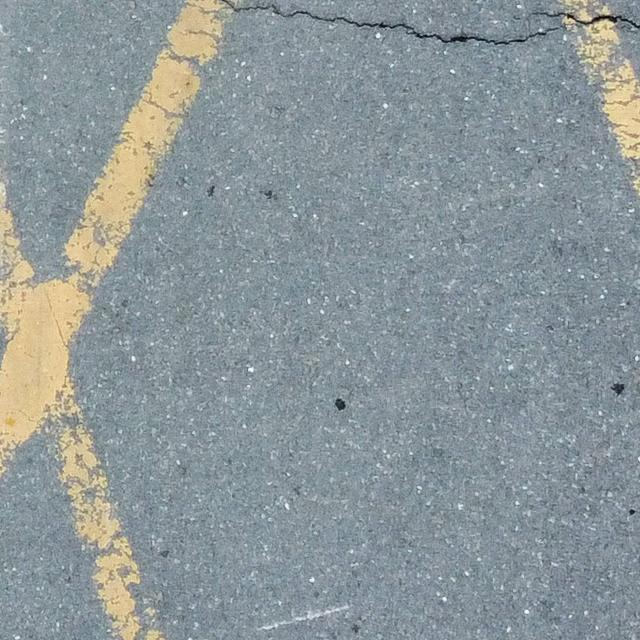TransverseCrack: (221, 1, 640, 48)
